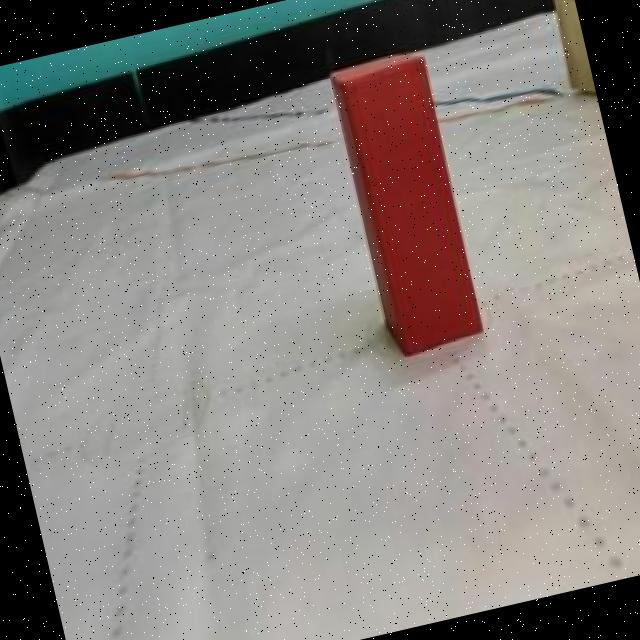redbox: (322, 46, 491, 362)
